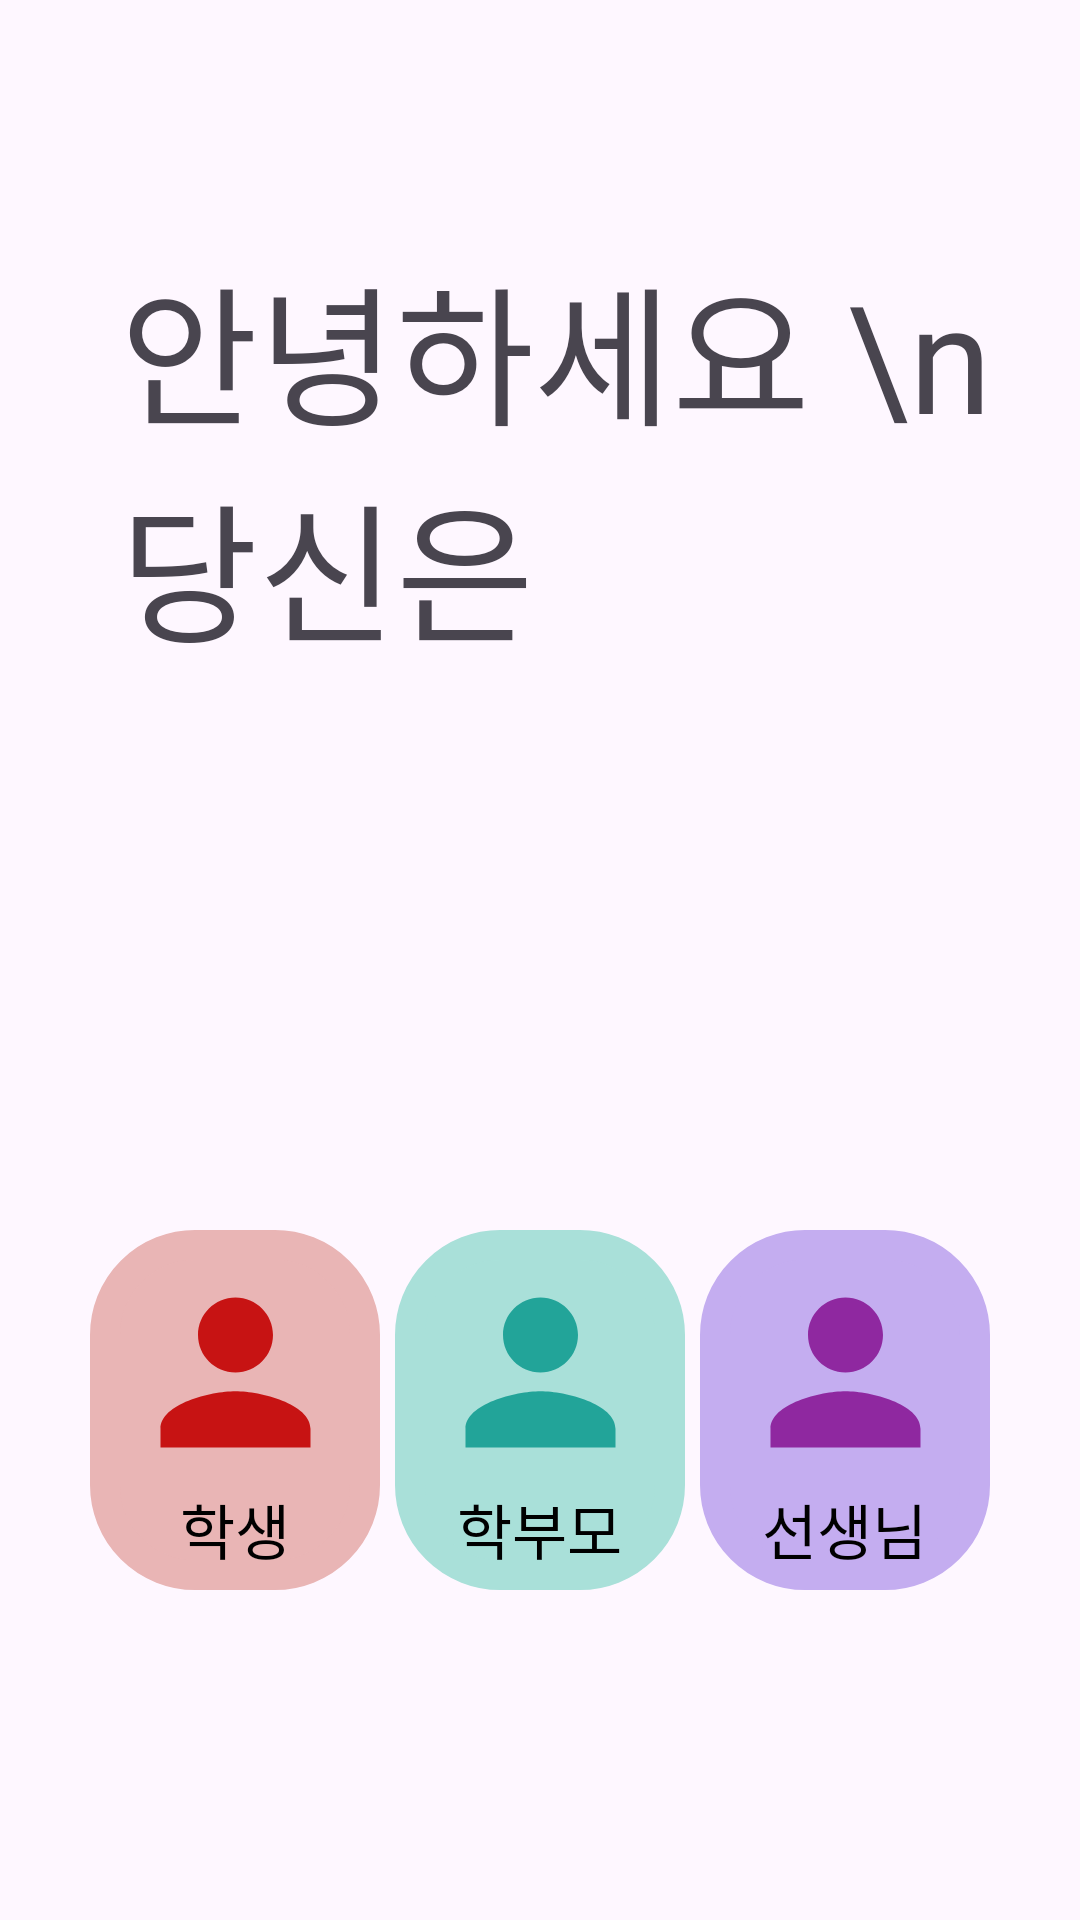

Point at icon controls on the screen. Image size 1080×1920, points as (x=x, y=y).
person: (x=235, y=1372), (x=540, y=1372), (x=845, y=1372)
